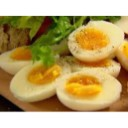begg: (60, 71, 122, 108), (68, 21, 123, 60), (1, 49, 56, 72)
